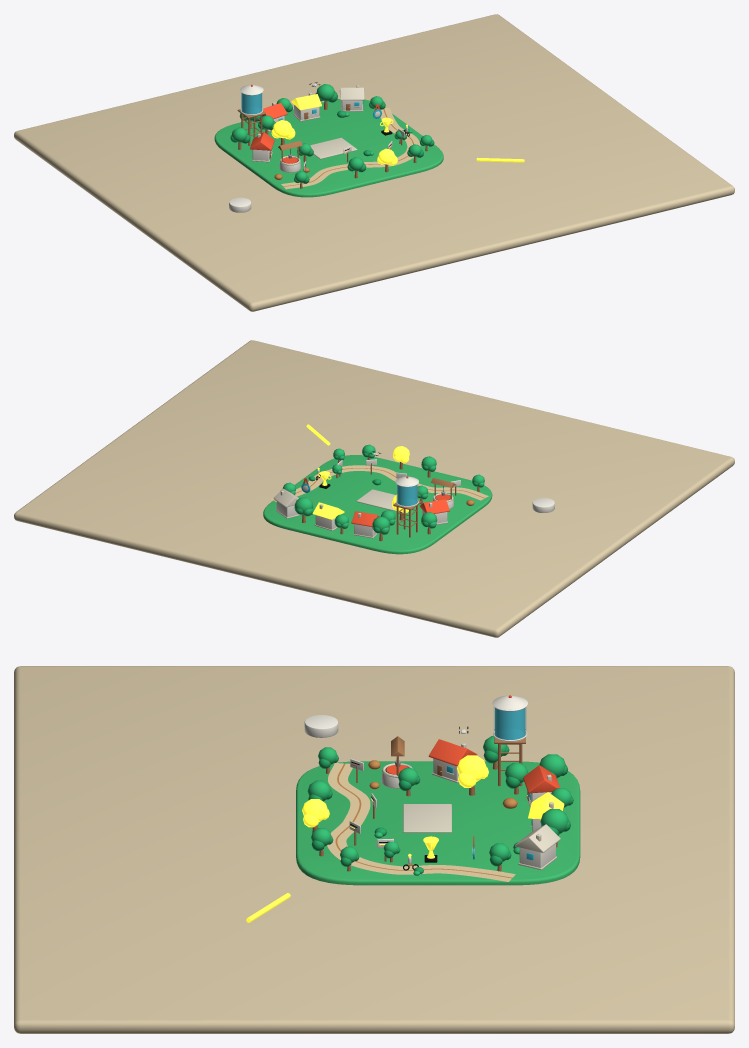
File: desol-island.glb
3 renders of one model, top to bottom at view 1: azimuth 30°, elevation 25°; view 2: azimuth 150°, elevation 25°; view 3: azimuth 270°, elevation 25°, orthographic. The views are drawn at different scales.
Parts seen in each view (by area): view 1: IS_LabTable, IS_Ground, IS_Road, IS_WaterTower, IS_House_02, IS_House_03, IS_Module_Pad, IS_House_04, IS_Well; view 2: IS_LabTable, IS_Ground, IS_Road, IS_WaterTower, IS_House_02, IS_House_01, IS_House_03, IS_Module_Pad; view 3: IS_LabTable, IS_Ground, IS_Road, IS_WaterTower, IS_Module_Pad, IS_House_03, IS_House_04, IS_WaterTower_Fill, IS_House_01, IS_Tree_07, IS_Well, IS_House_02 (+1 smaller).
Boxes of the visible parts, x1,y1,x2,y2 form: IS_LabTable: (14,14,734,311); IS_Ground: (214,99,443,197); IS_Road: (281,108,420,189); IS_WaterTower: (237,85,265,145); IS_House_02: (291,92,321,121); IS_House_03: (339,85,364,111); IS_Module_Pad: (310,137,357,159); IS_House_04: (250,132,274,162); IS_Well: (278,140,302,172); IS_LabTable: (14,340,734,637); IS_Ground: (263,455,492,554); IS_Road: (270,465,488,501); IS_WaterTower: (393,476,421,537); IS_House_02: (312,502,344,530); IS_House_01: (351,511,379,538); IS_House_03: (273,488,301,518); IS_Module_Pad: (356,489,395,510); IS_LabTable: (14,666,734,1033); IS_Ground: (296,761,580,885); IS_Road: (327,763,515,881); IS_WaterTower: (492,695,527,786); IS_Module_Pad: (403,804,451,832); IS_House_03: (515,824,560,870); IS_House_04: (428,739,477,783); IS_WaterTower_Fill: (495,708,525,739); IS_House_01: (523,765,559,807); IS_Tree_07: (457,755,488,795); IS_Well: (381,736,412,788); IS_House_02: (528,792,564,831).
Size of the model in its own units: 40 by 7.08 by 34.
